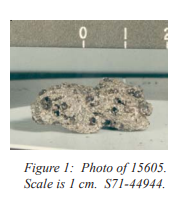Basalt: (16, 66, 158, 138)
